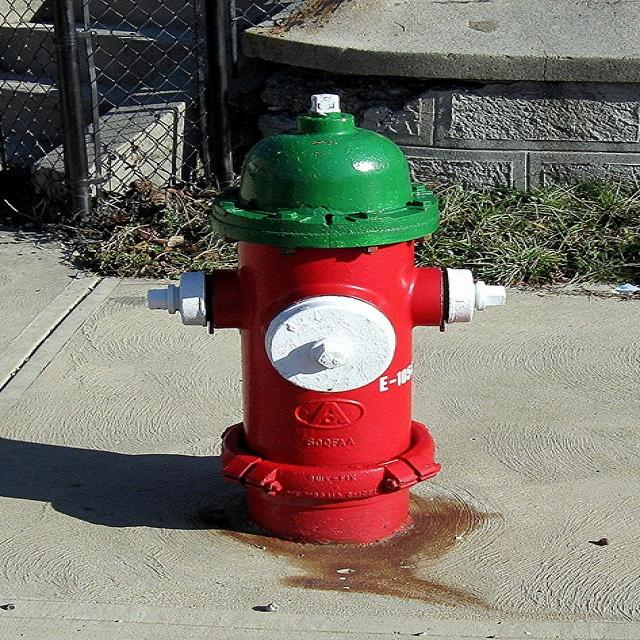fire_hydrant: (149, 96, 509, 547)
